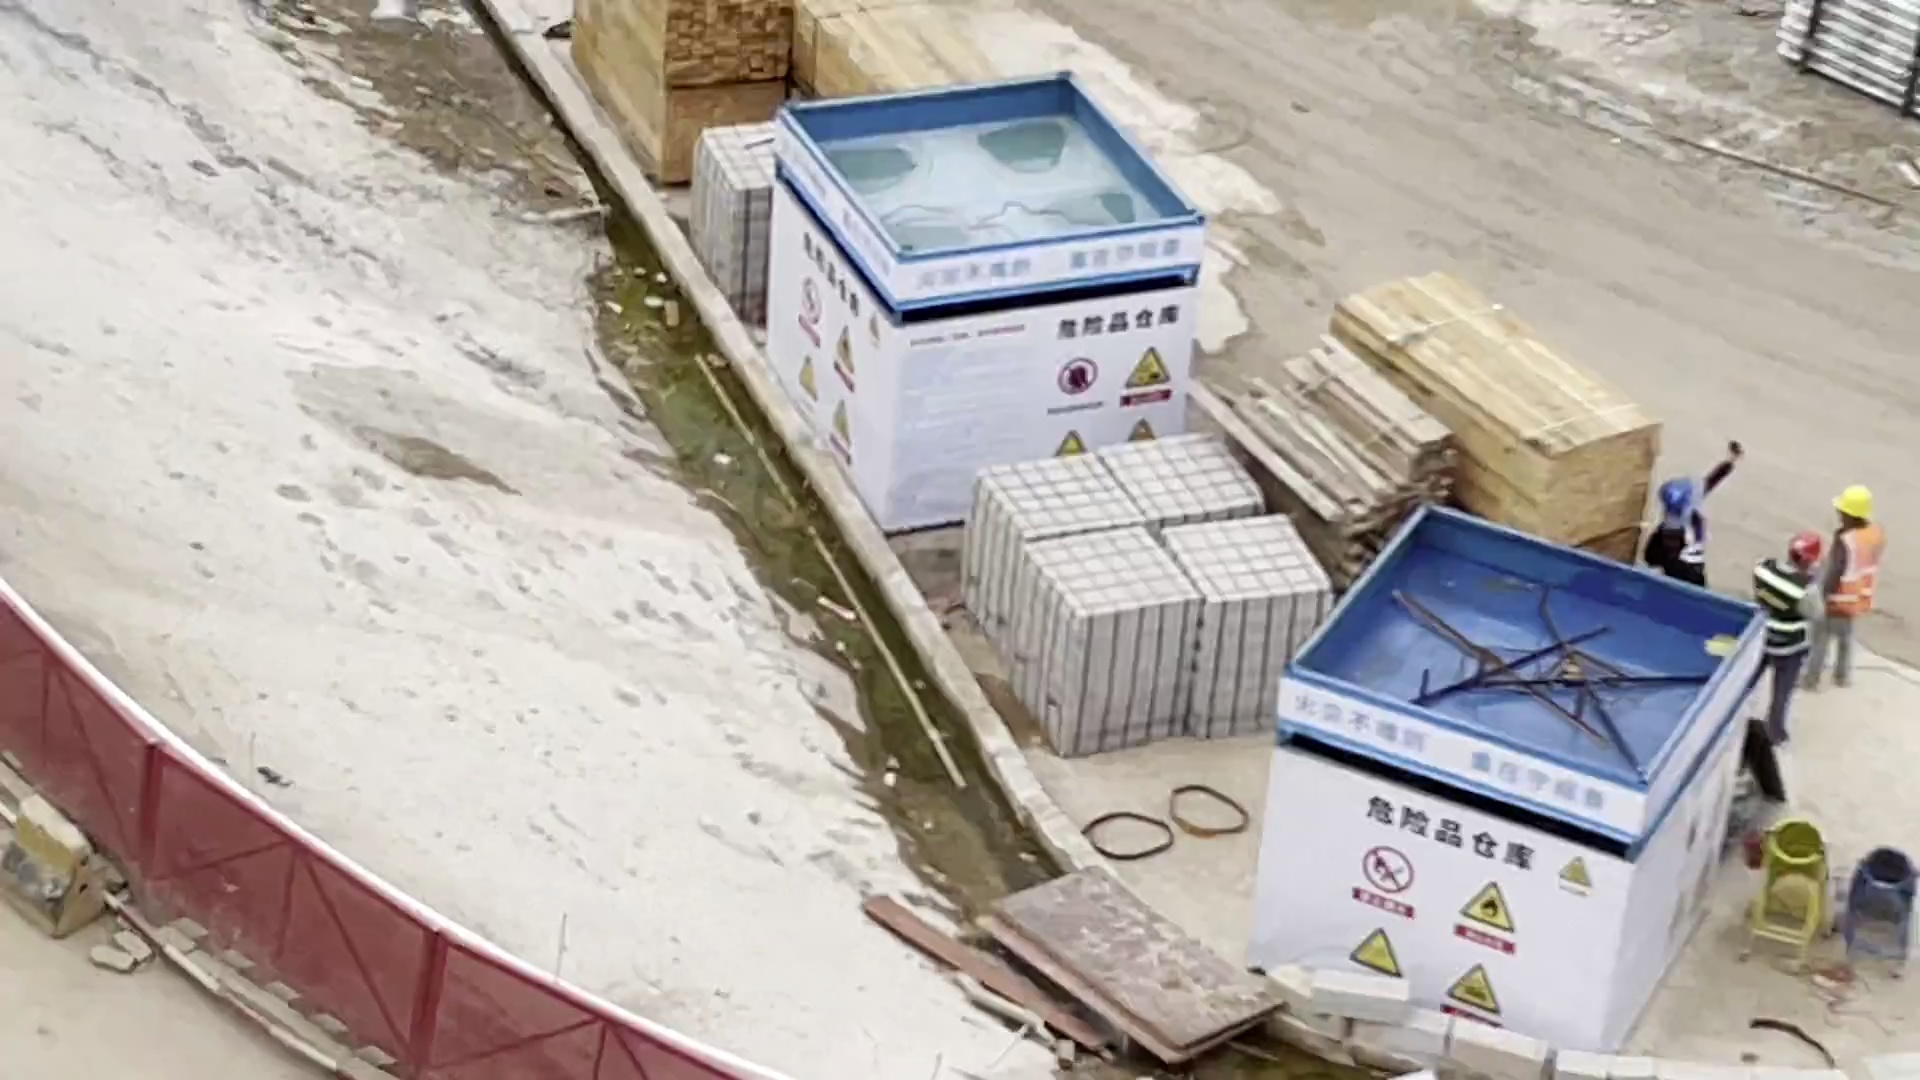board: (964, 858, 1317, 1061)
brick: (945, 424, 1346, 766), (1260, 962, 1700, 1080), (667, 100, 792, 322)
fence: (2, 572, 759, 1080)
helmet: (1825, 477, 1885, 534), (1661, 468, 1709, 529), (1792, 520, 1829, 576)
person: (1640, 418, 1744, 639), (1790, 484, 1896, 696), (1746, 526, 1833, 761)
scaffold: (1775, 5, 1920, 125)
slogan: (1271, 669, 1641, 1068), (888, 219, 1225, 562), (737, 134, 904, 561), (1633, 627, 1758, 1050)
vest: (1737, 550, 1815, 672), (1826, 527, 1885, 639), (1640, 512, 1717, 576)
wood: (1245, 250, 1696, 561), (554, 3, 1008, 147)
